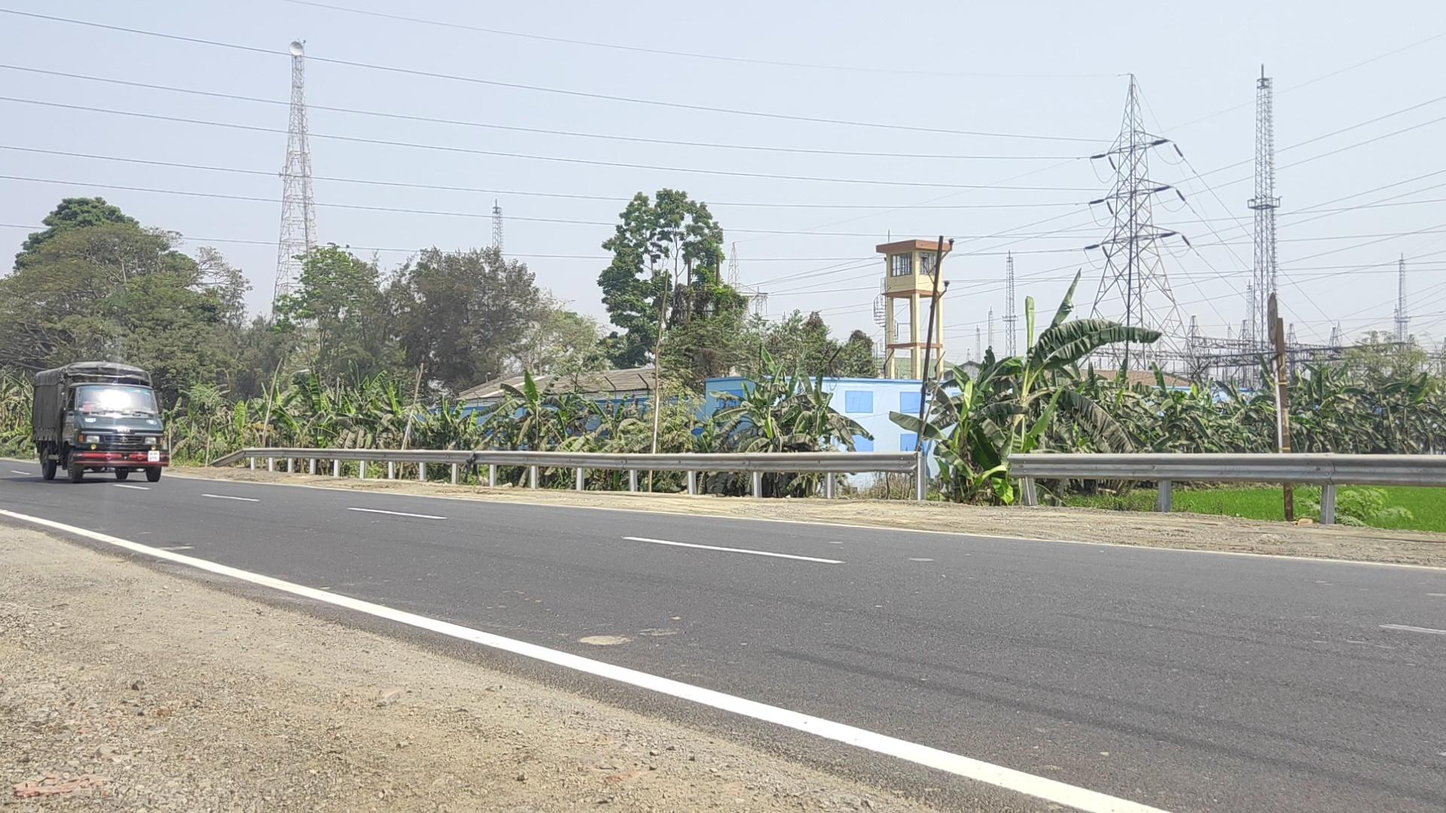truck: (31, 361, 169, 484)
